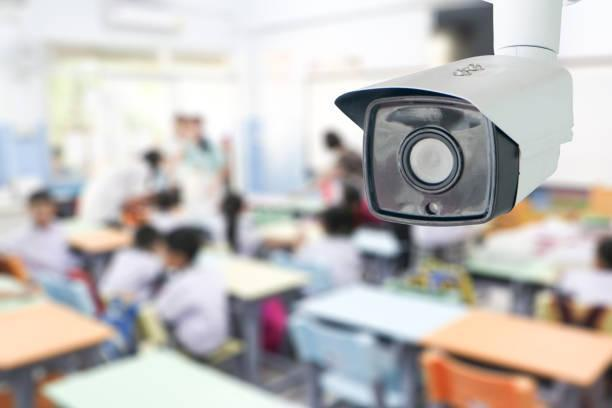camera: (297, 21, 601, 273)
